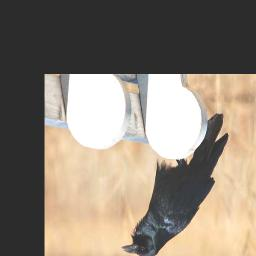Crow: (121, 112, 229, 256)
